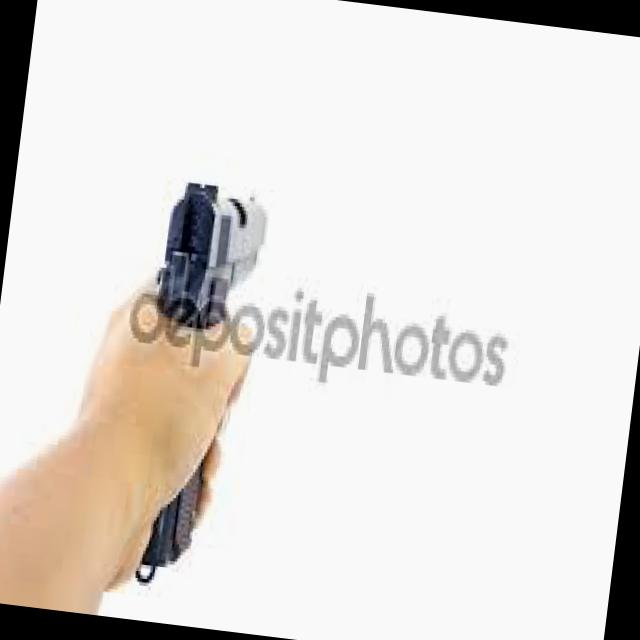handgun: (118, 173, 274, 592)
